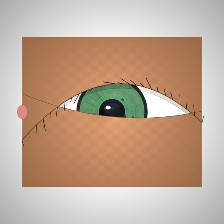hemorrhage_spot: (71, 82, 142, 138)
